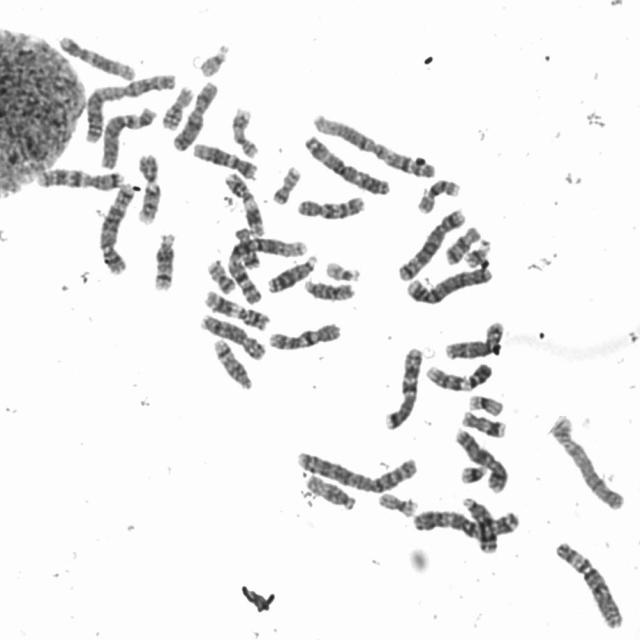A1: (307, 108, 438, 180), (221, 230, 310, 304)
A2: (79, 68, 178, 144), (290, 443, 420, 495)
A3: (300, 129, 392, 196), (409, 502, 522, 540)
B4: (548, 409, 627, 512), (400, 260, 494, 306)
B5: (394, 202, 468, 282), (94, 178, 138, 276)
C10: (264, 317, 343, 352), (292, 190, 368, 221)
C11: (199, 284, 271, 332), (219, 167, 267, 238)
C12: (54, 29, 138, 82), (188, 136, 260, 181)
C6: (550, 535, 627, 631), (95, 100, 158, 170)
C7: (379, 341, 424, 431), (32, 162, 126, 192)
C8: (195, 308, 268, 362), (439, 316, 506, 362)
C9: (420, 356, 495, 393), (131, 148, 163, 226)
D13: (456, 490, 499, 555), (262, 249, 320, 295)
D14: (209, 334, 254, 391), (147, 226, 178, 292)
D15: (301, 469, 358, 512), (300, 273, 358, 302)
E16: (413, 173, 463, 214), (157, 80, 196, 131)
E17: (226, 101, 260, 160), (456, 405, 509, 439)
E18: (440, 220, 484, 266), (232, 223, 262, 270)
F19: (373, 487, 419, 518), (464, 389, 506, 417)
F20: (267, 160, 303, 206), (202, 254, 238, 295)
G21: (461, 234, 494, 268), (455, 459, 489, 485)
G22: (194, 37, 232, 78), (320, 254, 364, 282)
X: (451, 422, 510, 494), (167, 76, 220, 152)
